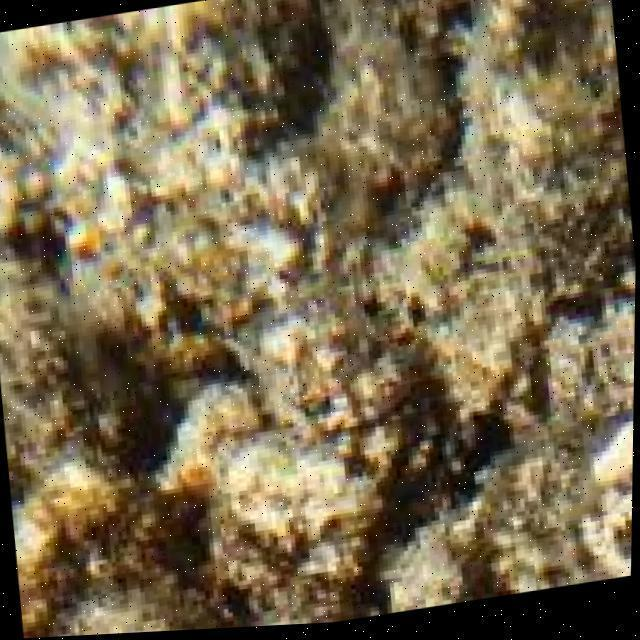Bleached Coral: (160, 386, 386, 548)
